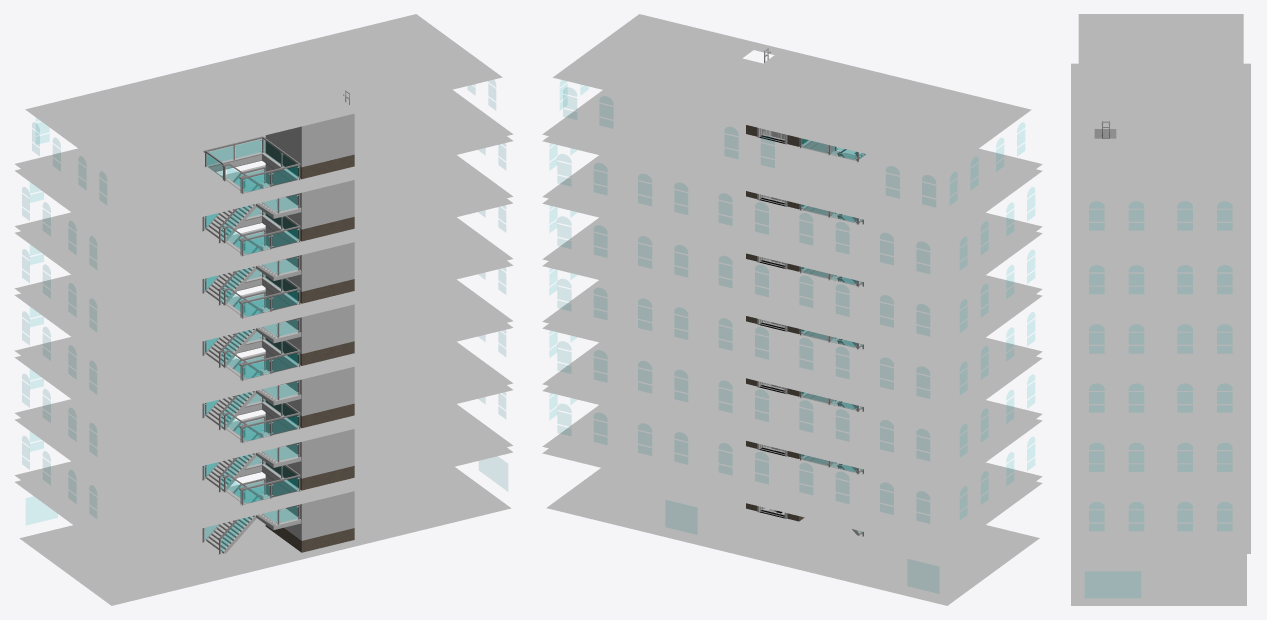
The model's file is SM_Building17_V2_Interior.fbx.
3 views of the same model, side by side, from view 1: azimuth 30°, elevation 25°; view 2: azimuth 150°, elevation 25°; view 3: azimuth 270°, elevation 25° (orthographic). The views are drawn at different scales.
Parts seen in each view (by area): view 1: SM_Building17_V2_Interior; view 2: SM_Building17_V2_Interior; view 3: SM_Building17_V2_Interior.
Part boxes in pixels (x1,y1,x2,y2): SM_Building17_V2_Interior: (14,14,513,605); SM_Building17_V2_Interior: (542,14,1042,605); SM_Building17_V2_Interior: (1071,14,1250,605).
Size of the model in its own units: 2785 by 2960 by 1128.
